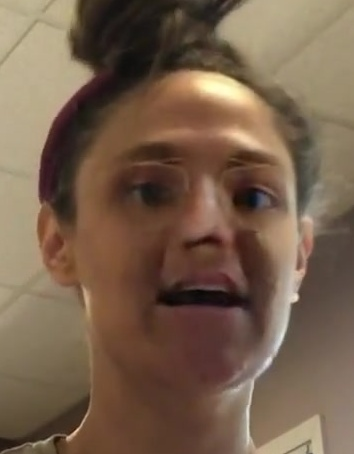n_f: (178, 171, 236, 254)
